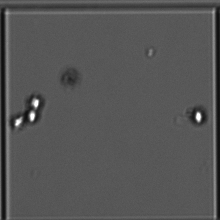Dead Cell: (58, 64, 85, 92)
Living Cell: (187, 103, 209, 130), (26, 91, 50, 109), (26, 106, 45, 128), (8, 113, 27, 133)
